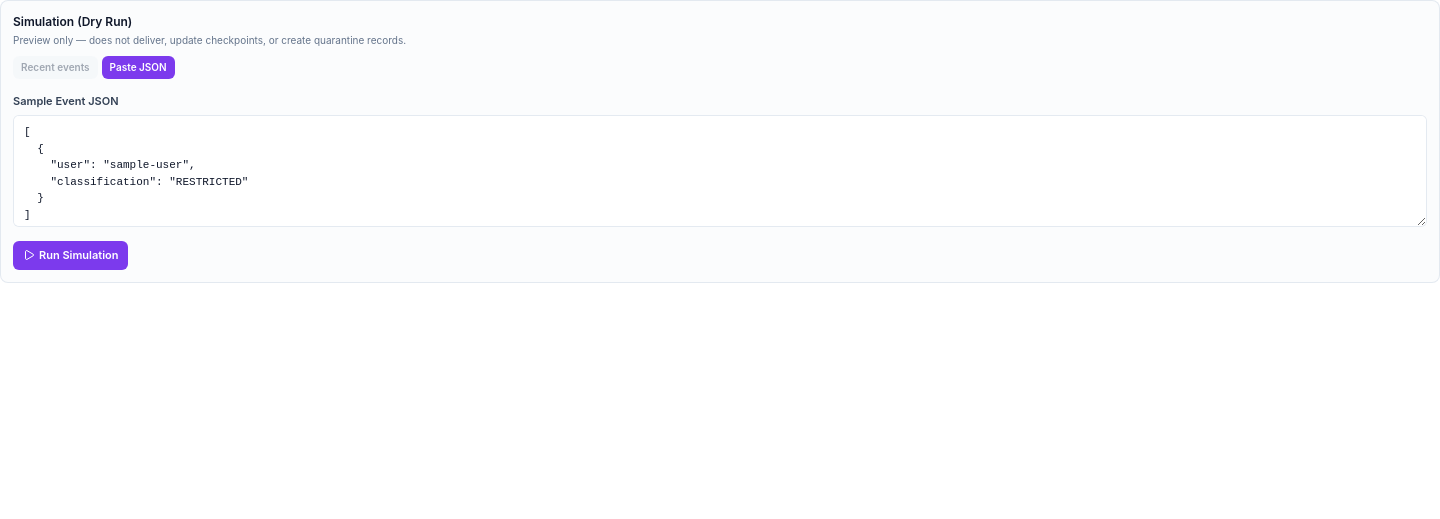
Test case: PolicySimulationPanel › shows unmatched simulation result
What coordinates should you click on to do the following:
click the button with test id "policy-simulation-run"
I would click on:
 (71, 255)
Its box is [13,241,128,270].
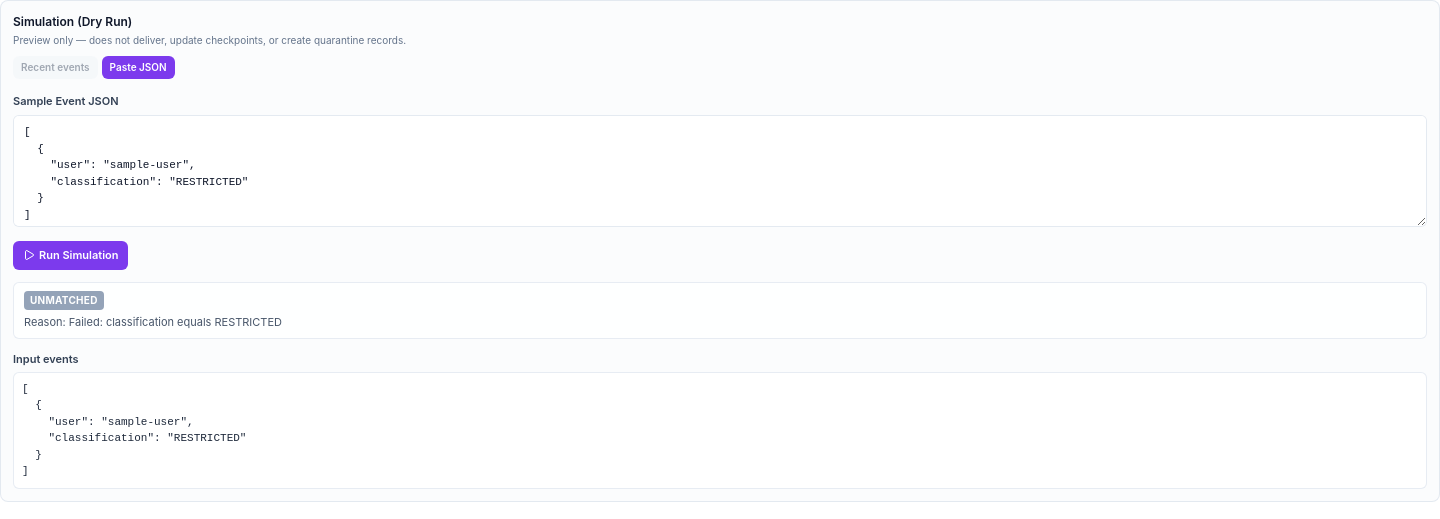
Now the element with test id "policy-simulation-result-unmatched" is shown, box [13,282,1427,339]
Now the text "Unmatched" is shown, box [24,290,104,310]
